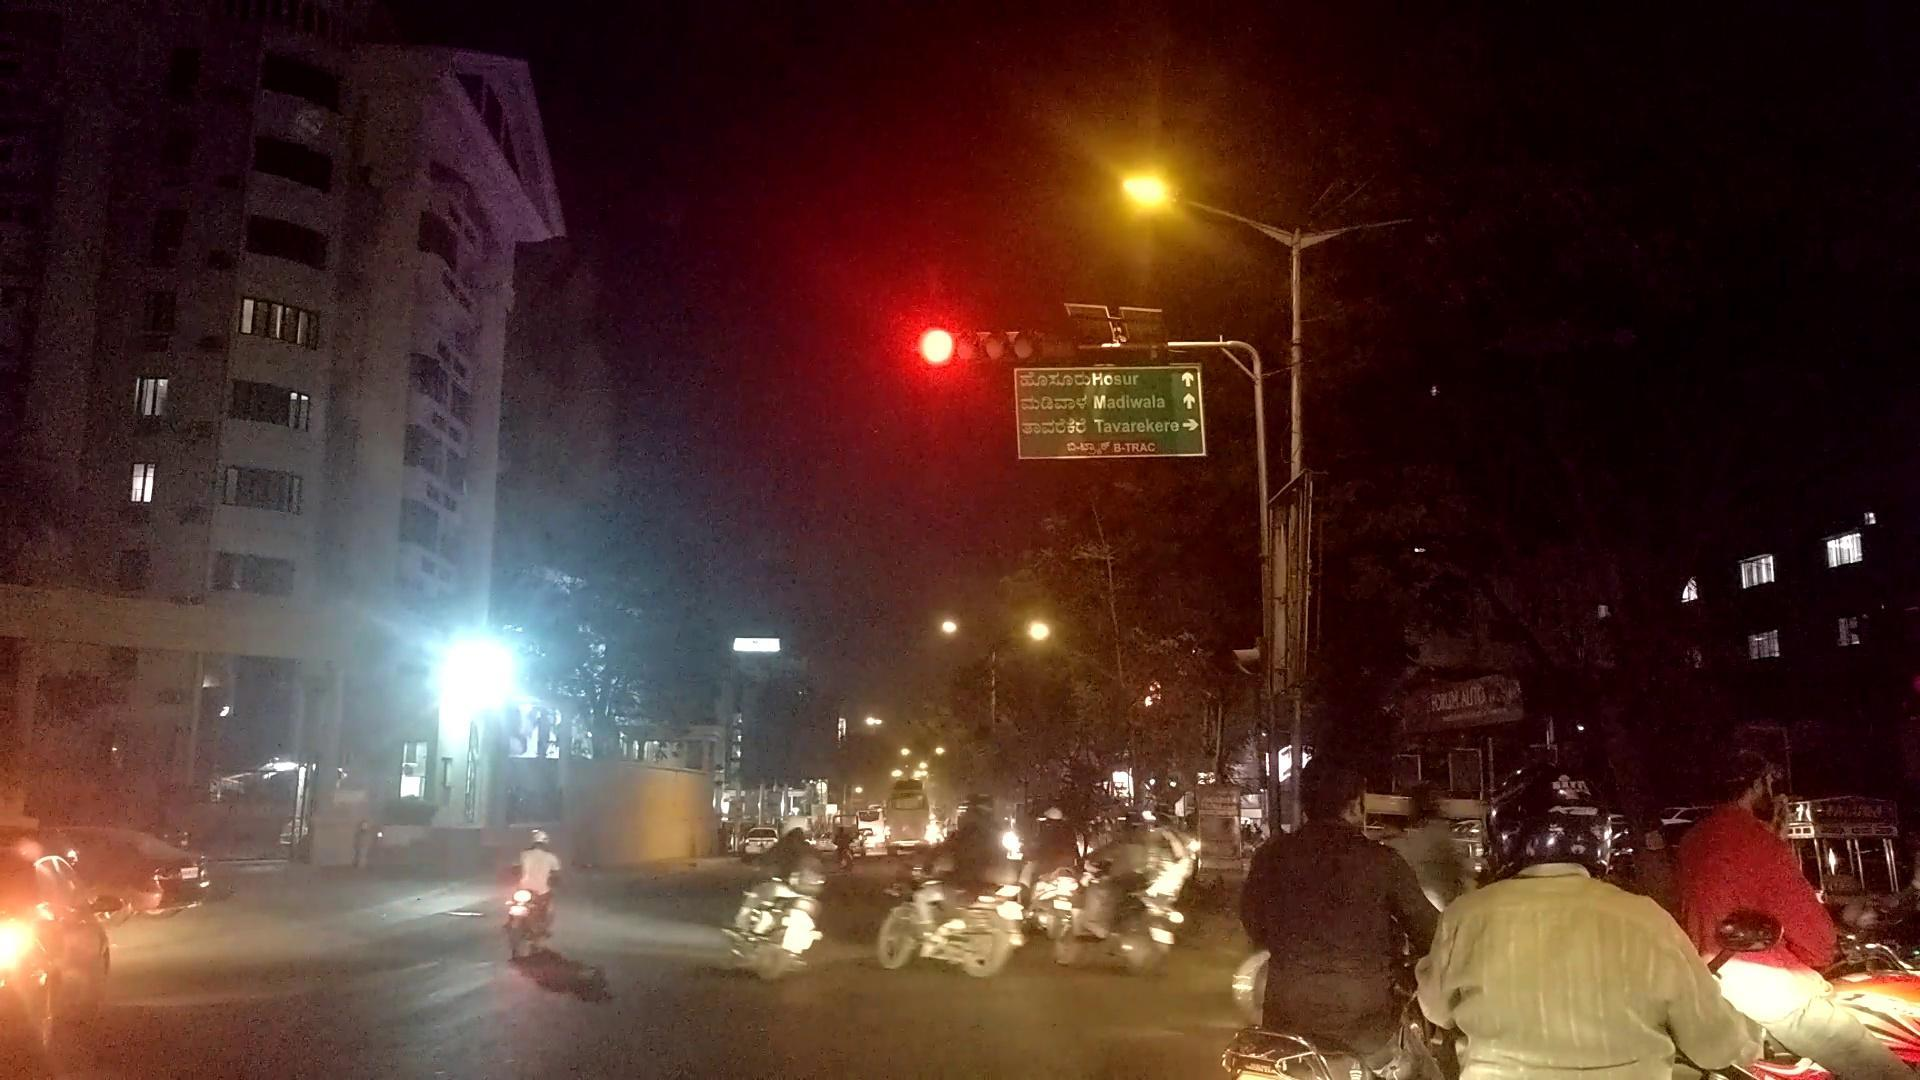on: (980, 0, 1319, 274)
